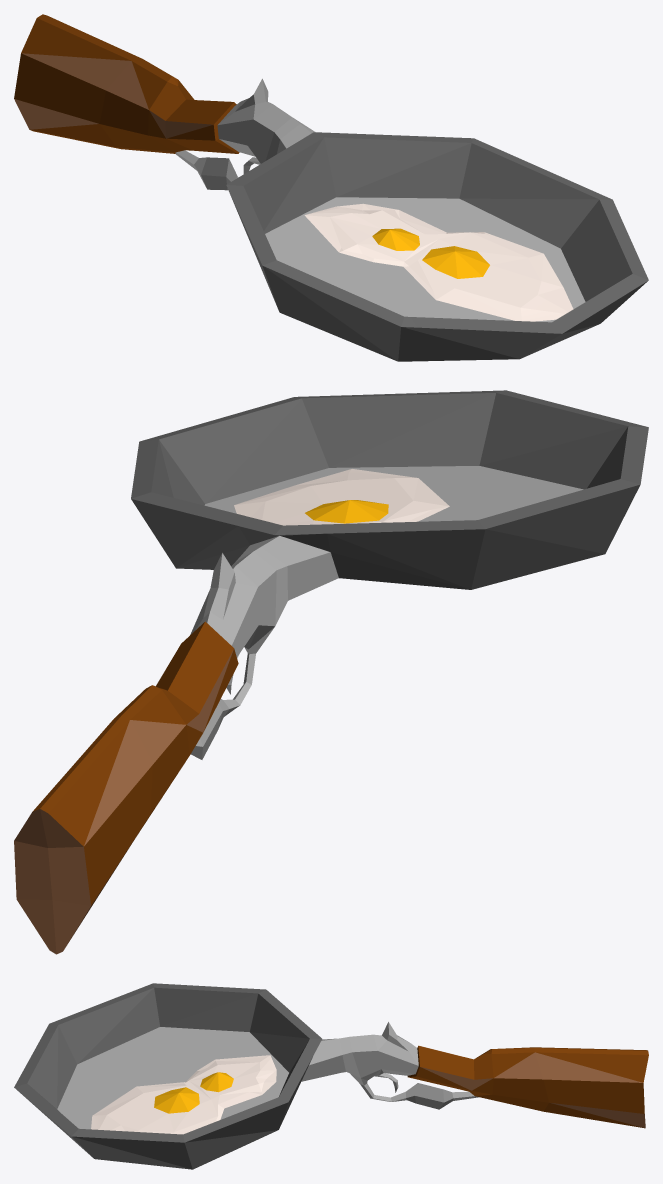
The model's file is pfanne.fbx.
3 renders of one model, top to bottom at view 1: azimuth 30°, elevation 25°; view 2: azimuth 150°, elevation 25°; view 3: azimuth 270°, elevation 25°, orthographic. The views are drawn at different scales.
Parts seen in each view (by area): view 1: weapon1; view 2: weapon1; view 3: weapon1.
Boxes of the visible parts, <box> form: weapon1: <box>14,14,648,361</box>; weapon1: <box>14,390,648,954</box>; weapon1: <box>14,983,648,1169</box>.
Size of the model in its own units: 89.53 by 39.67 by 185.
